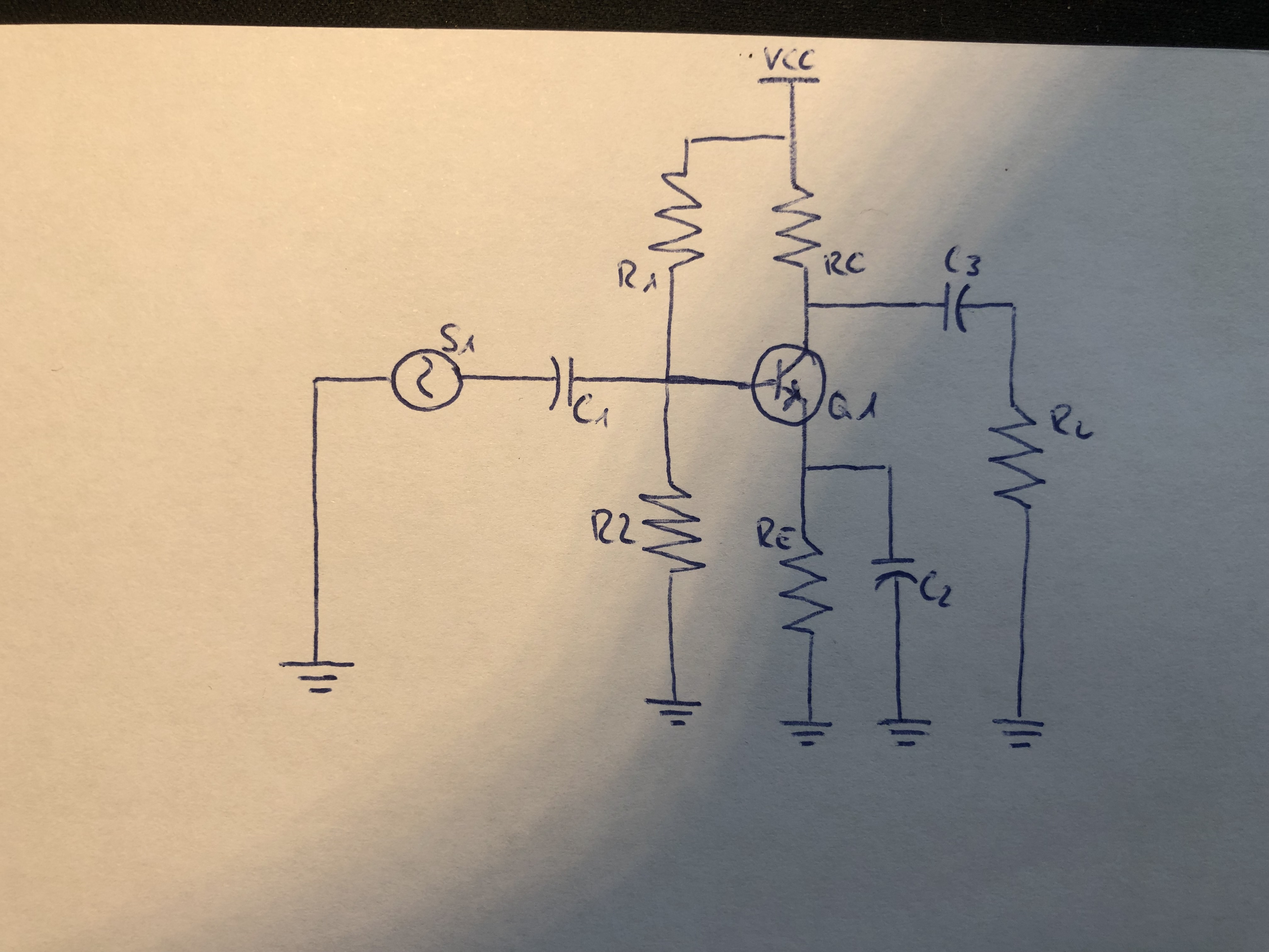capacitor.unpolarized: (869, 553, 921, 592), (545, 350, 578, 411), (940, 275, 973, 336)
gnd: (275, 657, 364, 697), (986, 713, 1048, 753), (638, 695, 706, 731), (872, 716, 935, 751), (775, 718, 836, 751)
junction: (654, 369, 682, 394), (303, 373, 332, 397), (676, 131, 704, 155), (776, 126, 804, 150), (793, 457, 819, 481), (999, 294, 1024, 318), (797, 293, 822, 317), (873, 457, 898, 481)
resistor: (637, 475, 708, 581), (986, 396, 1047, 516), (775, 526, 835, 641), (645, 166, 706, 274), (768, 181, 824, 273)
text: (589, 505, 634, 550), (1048, 400, 1096, 442), (568, 388, 613, 432), (828, 388, 881, 423), (942, 242, 990, 280), (759, 42, 818, 71), (616, 258, 661, 296), (917, 568, 957, 610), (753, 515, 795, 551), (821, 249, 868, 280), (438, 321, 477, 358)
transistor.bjt: (746, 340, 829, 429)
voltage.ac: (389, 345, 466, 415)
vss: (754, 73, 823, 108)
